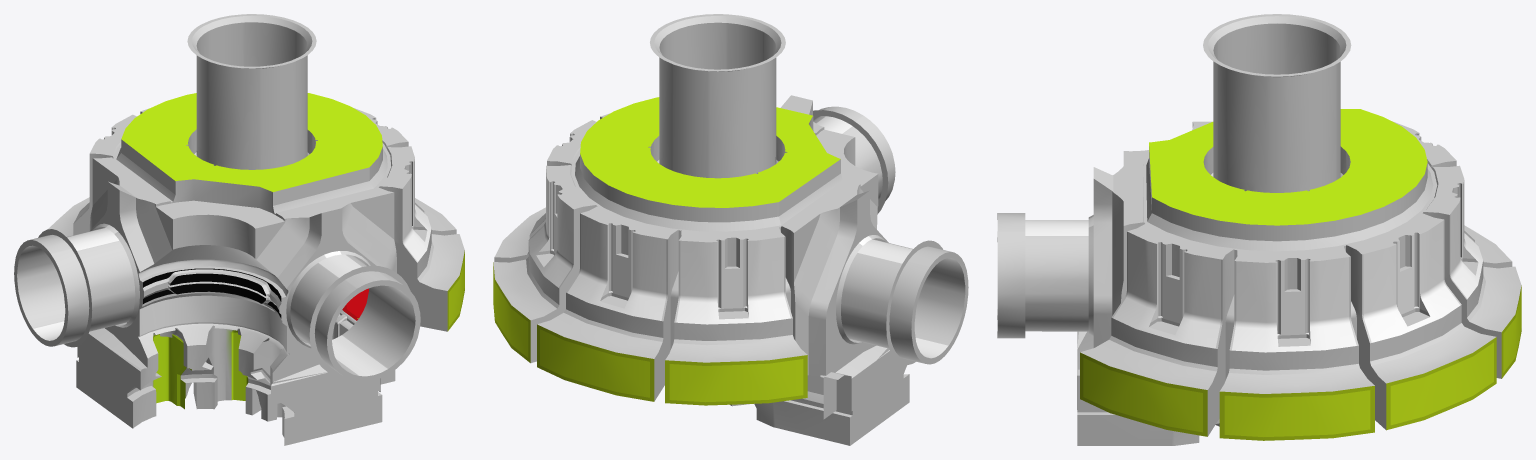
File: part_main-lod0.dae
The picture shows the model from 3 angles, left to right: view 1: azimuth 30°, elevation 25°; view 2: azimuth 150°, elevation 25°; view 3: azimuth 270°, elevation 25°; orthographic projection. The views are drawn at different scales.
Parts seen in each view (by area): view 1: part_main-lod0Xlod0Xp2genericXgen_p2_hulltexture_02, part_main-lod0Xlod0Xp2multimatXp2_multimat_01, part_main-lod0Xlod0Xp2genericXgen_p2_hulltexture_02_c, part_main-lod0Xlod0Xp2genericXgen_p2_fx_01, part_main-lod0Xlod0Xp2genericXgen_p2_hullpattern_01; view 2: part_main-lod0Xlod0Xp2genericXgen_p2_hulltexture_02, part_main-lod0Xlod0Xp2multimatXp2_multimat_01, part_main-lod0Xlod0Xp2genericXgen_p2_hulltexture_02_c; view 3: part_main-lod0Xlod0Xp2genericXgen_p2_hulltexture_02, part_main-lod0Xlod0Xp2multimatXp2_multimat_01, part_main-lod0Xlod0Xp2genericXgen_p2_hulltexture_02_c.
Boxes of the visible parts, x1,y1,x2,y2 form: part_main-lod0Xlod0Xp2genericXgen_p2_hulltexture_02: (14,14,464,445); part_main-lod0Xlod0Xp2multimatXp2_multimat_01: (111,93,464,326); part_main-lod0Xlod0Xp2genericXgen_p2_hulltexture_02_c: (33,159,431,405); part_main-lod0Xlod0Xp2genericXgen_p2_fx_01: (170,273,265,303); part_main-lod0Xlod0Xp2genericXgen_p2_hullpattern_01: (143,268,281,318); part_main-lod0Xlod0Xp2genericXgen_p2_hulltexture_02: (493,14,968,445); part_main-lod0Xlod0Xp2multimatXp2_multimat_01: (493,97,840,402); part_main-lod0Xlod0Xp2genericXgen_p2_hulltexture_02_c: (528,116,948,394); part_main-lod0Xlod0Xp2genericXgen_p2_hulltexture_02: (997,14,1521,445); part_main-lod0Xlod0Xp2multimatXp2_multimat_01: (1083,109,1521,436); part_main-lod0Xlod0Xp2genericXgen_p2_hulltexture_02_c: (1025,180,1482,352).
Bounding box in the file's own units: 66.57 × 52.75 × 66.57.
